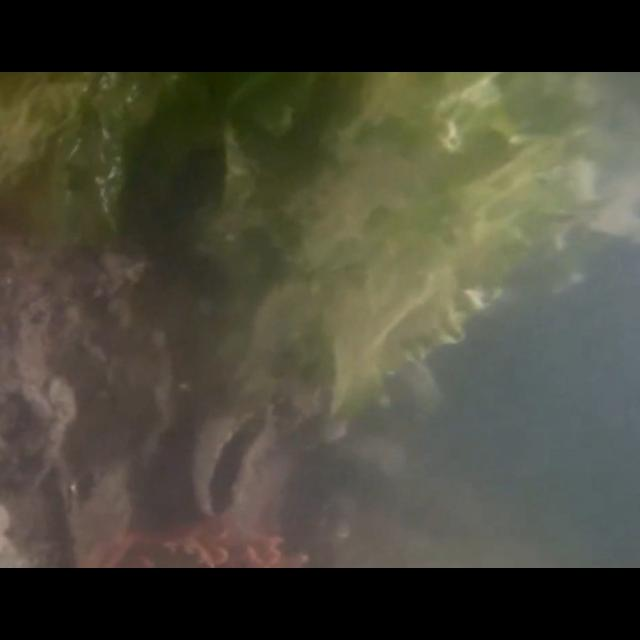Oyster-Open: (189, 399, 279, 519)
